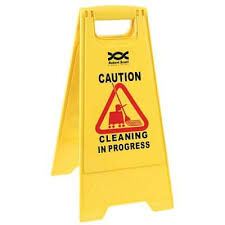wet caution sign: (65, 19, 169, 206)
